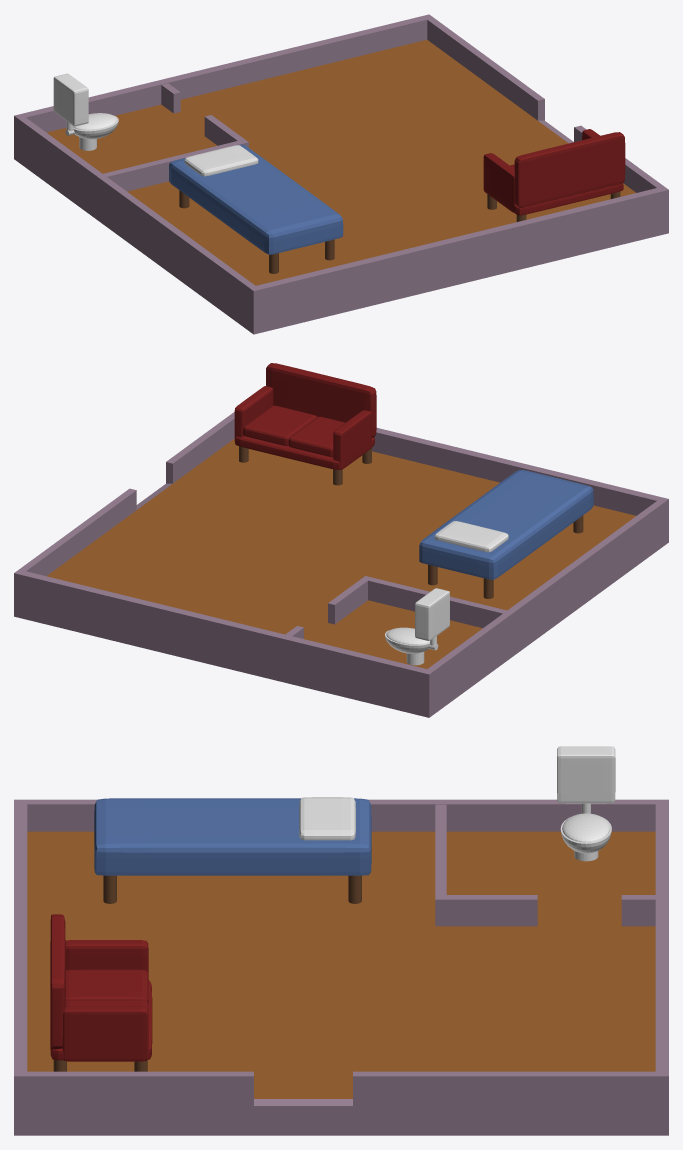
Rendered from FloorRoom_-_CopyFixed.fbx.
3 views of the same model, one above another, from view 1: azimuth 30°, elevation 25°; view 2: azimuth 150°, elevation 25°; view 3: azimuth 270°, elevation 25° (orthographic). The views are drawn at different scales.
Visible parts, largest first — view 1: Room.001; view 2: Room.001; view 3: Room.001.
Part boxes in pixels (x1,y1,x2,y2): Room.001: (14, 14, 668, 334); Room.001: (14, 363, 668, 717); Room.001: (14, 746, 668, 1135).
Size of the model in its own units: 200 by 44.69 by 200.
